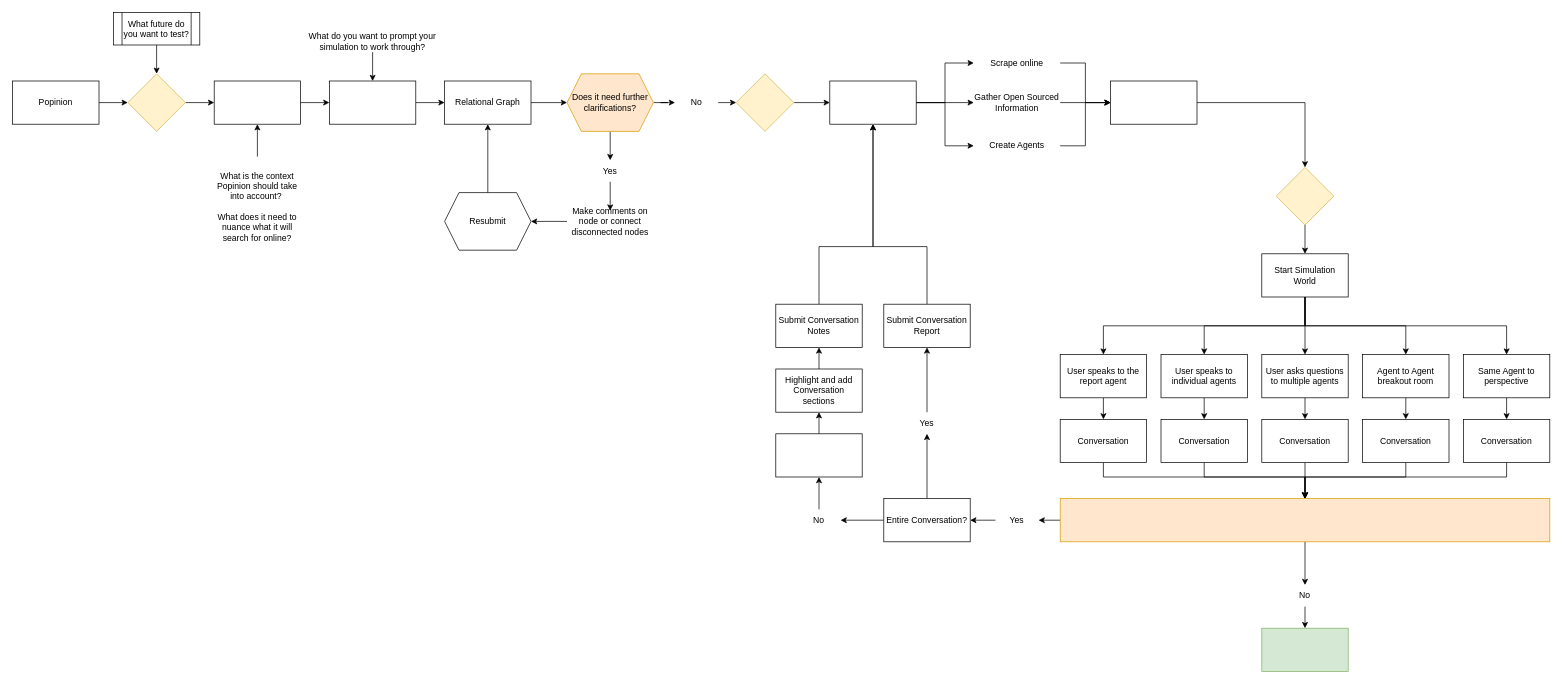
Some shapes in this 1562 by 684 pixel diagram are drawn without their labels. The centre of each missing label's shape, as x and y in pixels:
Are there parts of the conversation you want to feedback to report for context?: pixel 1304 520
Create Conversation Note Pad: pixel 818 455
Create Post-Conversation Analysis: pixel 1304 649
Phase 1: pixel 156 102
Phase 2: pixel 764 102
Phase 3: pixel 1304 196
Prompt: pixel 372 102
Report Generation: pixel 872 102
Seed: pixel 257 102
Simulation World Preparation: pixel 1153 102
